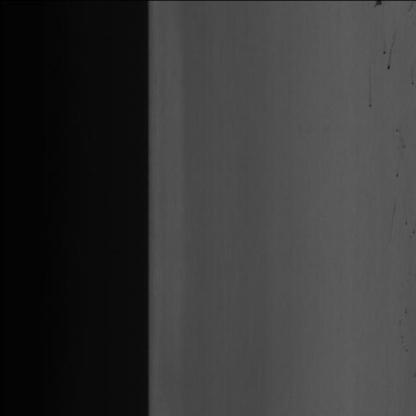inclusion: (391, 127, 408, 179), (377, 42, 395, 72)
